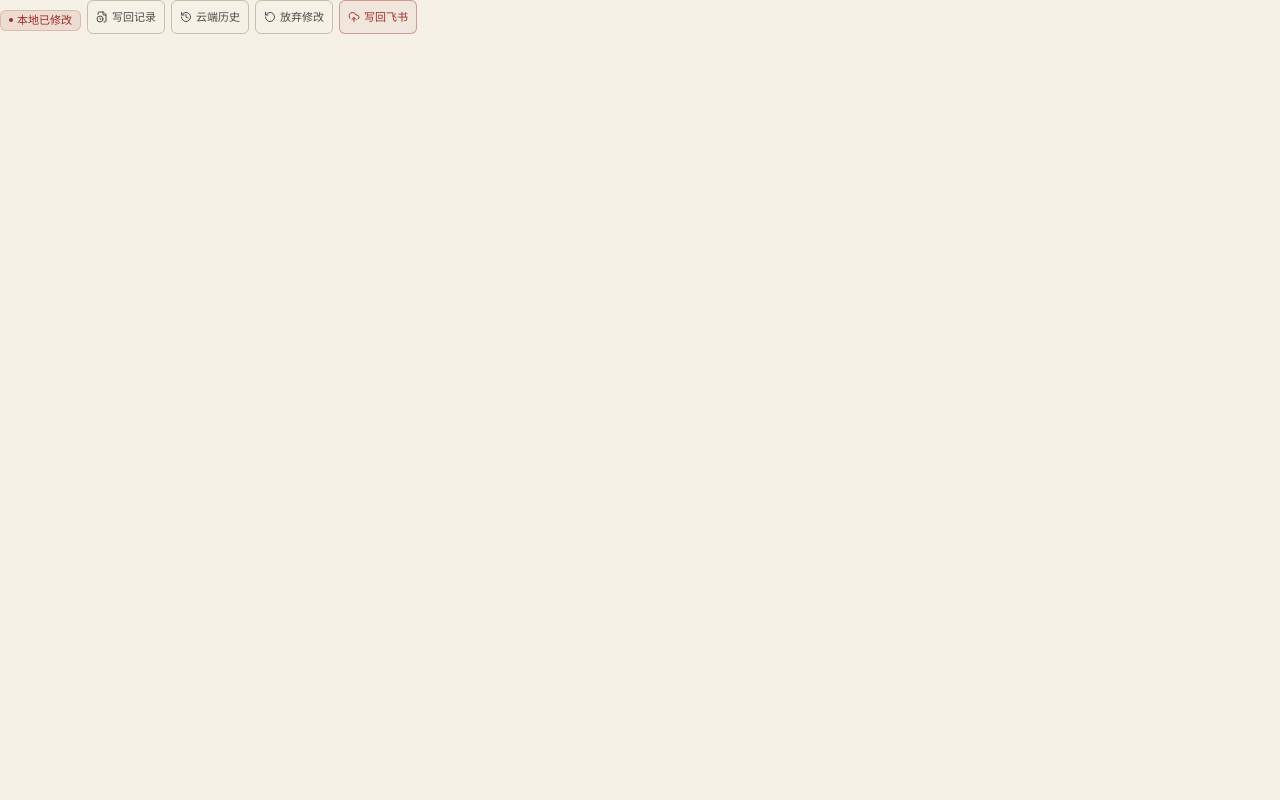
T4b-08 组件挂载点击链：对比云端与本地（真实 fetch 请求 + 回填渲染） › 真实失败（502）才降级：弹窗如实展示服务端错误码与消息，本地侧保留
Click the button "写回飞书" at x=378, y=17, box [339,0,417,34]
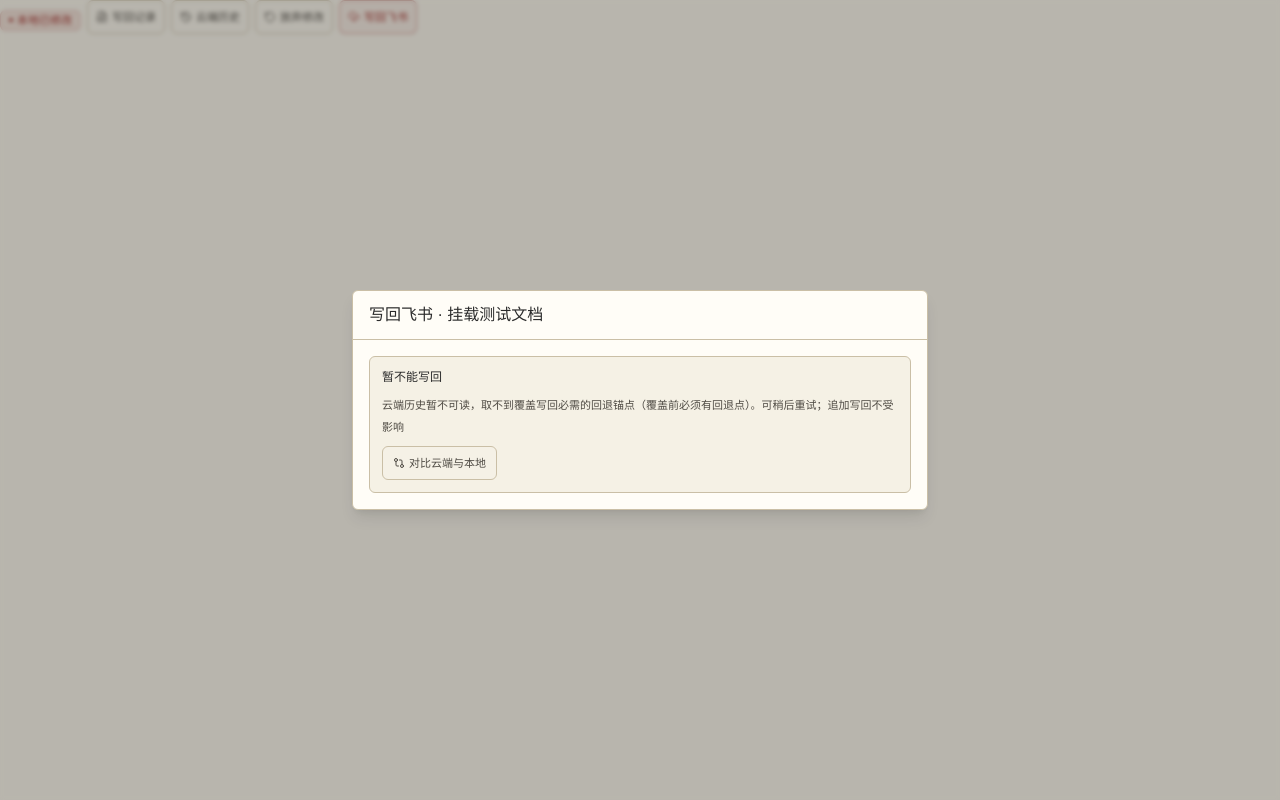
Click the button "对比云端与本地" at x=440, y=463, box [382,446,497,480]
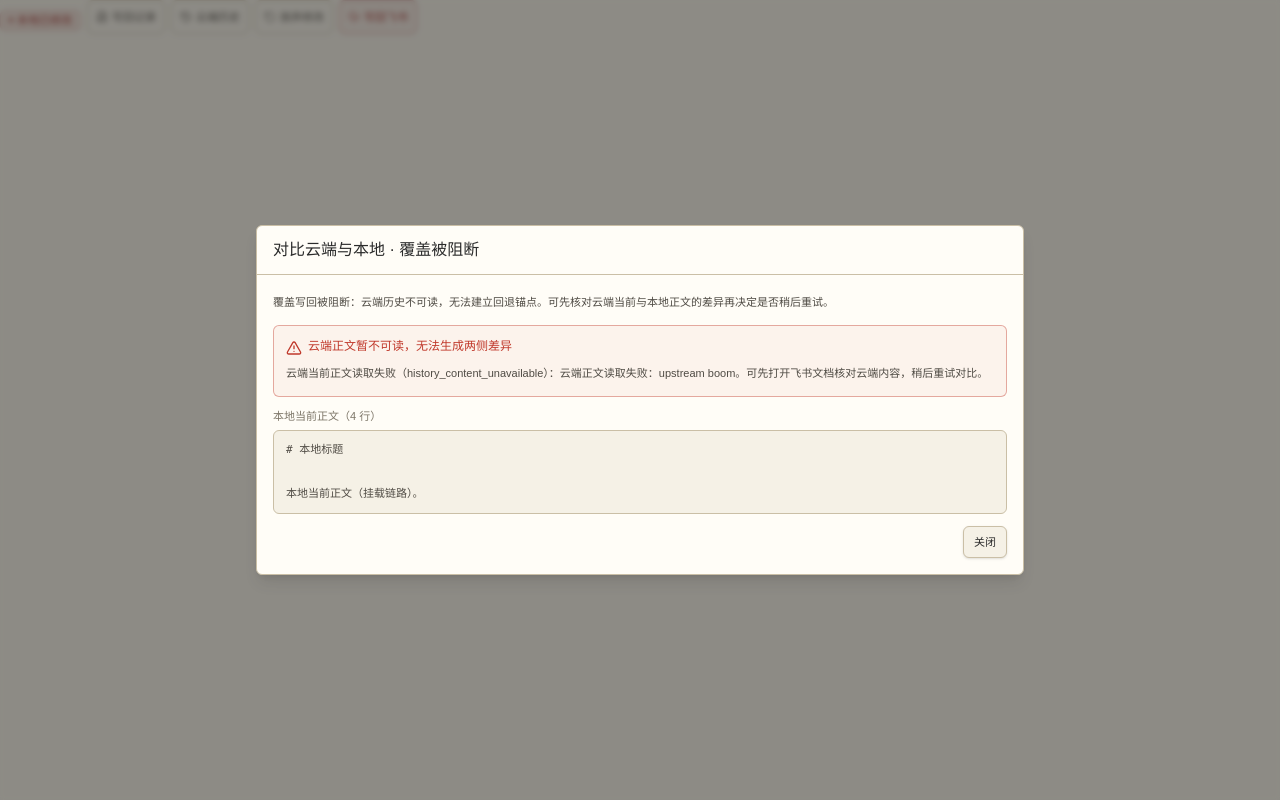
Now the text "history_content_unavailable" is shown, box [286,367,988,379]
Now the text "upstream boom" is shown, box [286,367,988,379]
Now the text "打开飞书文档核对" is shown, box [286,367,988,379]
